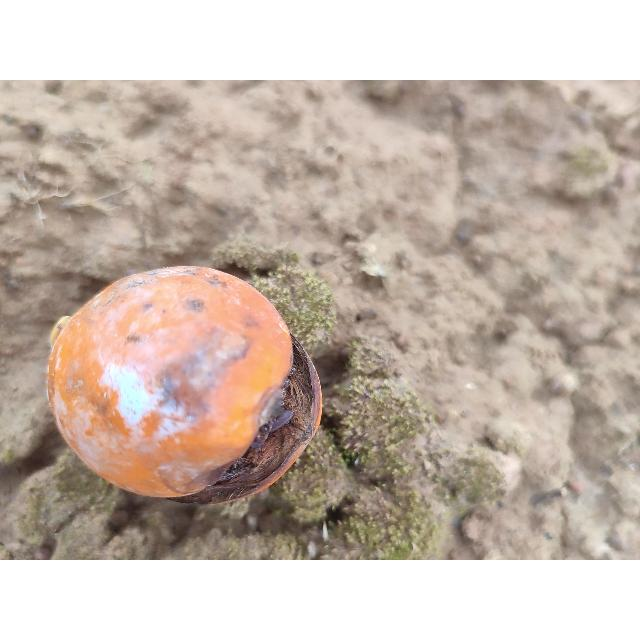damaged: (45, 267, 315, 502)
